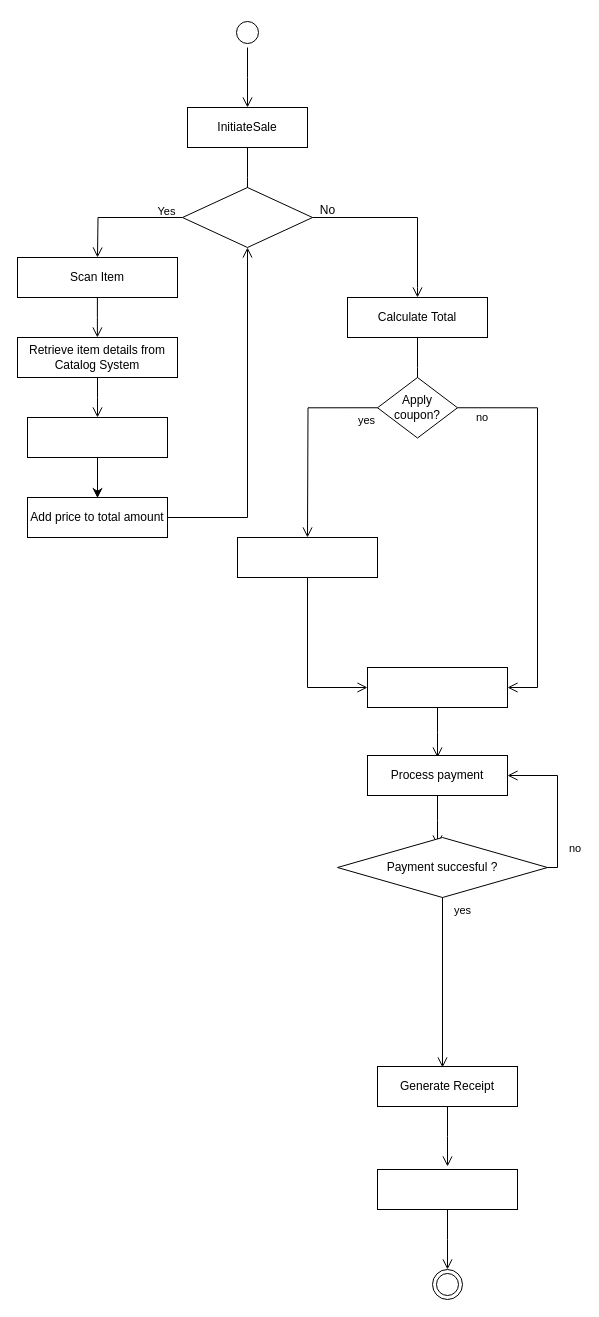
The diagram is 599 pixels wide and 1317 high, and some of its shapes have lost their labels. Each missing label, with the centre of its shape:
Add Item?: point 247,217
Apply discount: point 307,557
Print Receipt: point 447,1189
Recalculate total: point 437,687
Update stock from Inventory system: point 97,437
